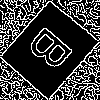B: (25, 24, 83, 80)
